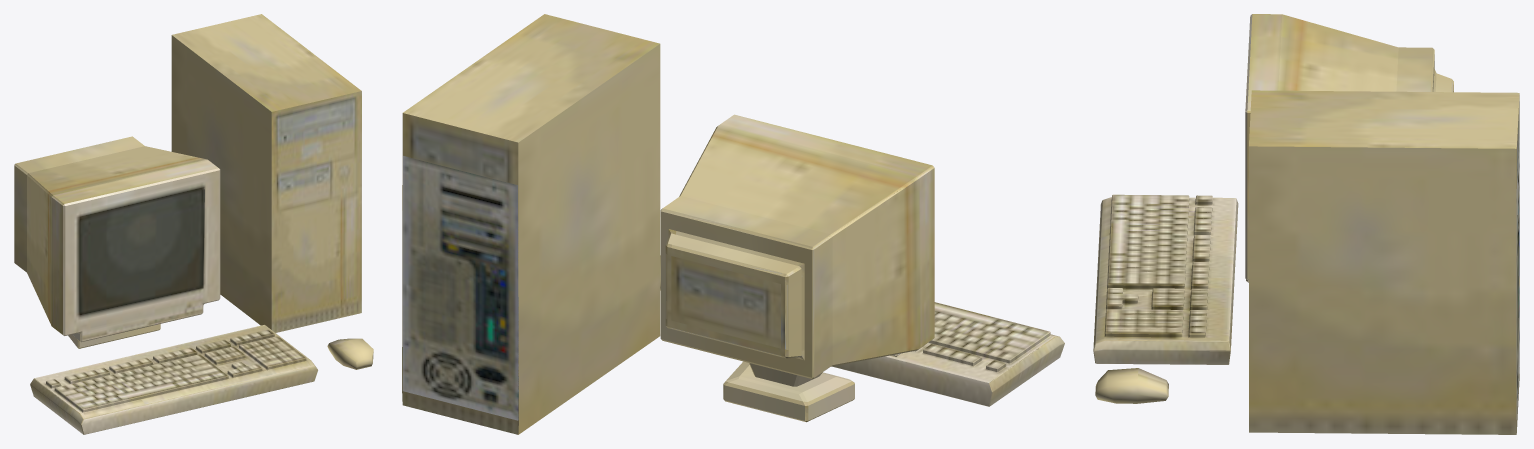
The model's file is computer.fbx.
The picture shows the model from 3 angles, left to right: view 1: azimuth 30°, elevation 25°; view 2: azimuth 150°, elevation 25°; view 3: azimuth 270°, elevation 25°; orthographic projection. The views are drawn at different scales.
Parts seen in each view (by area): view 1: CPU_Plainde_Material_001_0, Monitor_Plainde_Material_003_0, Keyboarde_Material_002_0, Mousede_Material_005_0; view 2: CPU_Plainde_Material_001_0, Monitor_Plainde_Material_003_0, Keyboarde_Material_002_0; view 3: CPU_Plainde_Material_001_0, Keyboarde_Material_002_0, Monitor_Plainde_Material_003_0, Mousede_Material_005_0.
Part boxes in pixels (bbox=[...]): CPU_Plainde_Material_001_0: bbox=[171, 14, 361, 332]; Monitor_Plainde_Material_003_0: bbox=[14, 136, 220, 348]; Keyboarde_Material_002_0: bbox=[30, 325, 317, 434]; Mousede_Material_005_0: bbox=[327, 338, 373, 369]; CPU_Plainde_Material_001_0: bbox=[402, 14, 660, 434]; Monitor_Plainde_Material_003_0: bbox=[660, 114, 934, 422]; Keyboarde_Material_002_0: bbox=[832, 302, 1064, 406]; CPU_Plainde_Material_001_0: bbox=[1249, 90, 1519, 434]; Keyboarde_Material_002_0: bbox=[1093, 194, 1238, 364]; Monitor_Plainde_Material_003_0: bbox=[1245, 14, 1453, 282]; Mousede_Material_005_0: bbox=[1095, 368, 1168, 403].
Bounding box in the file's own units: 477 × 295 × 399.
1 material, 1 textured.
